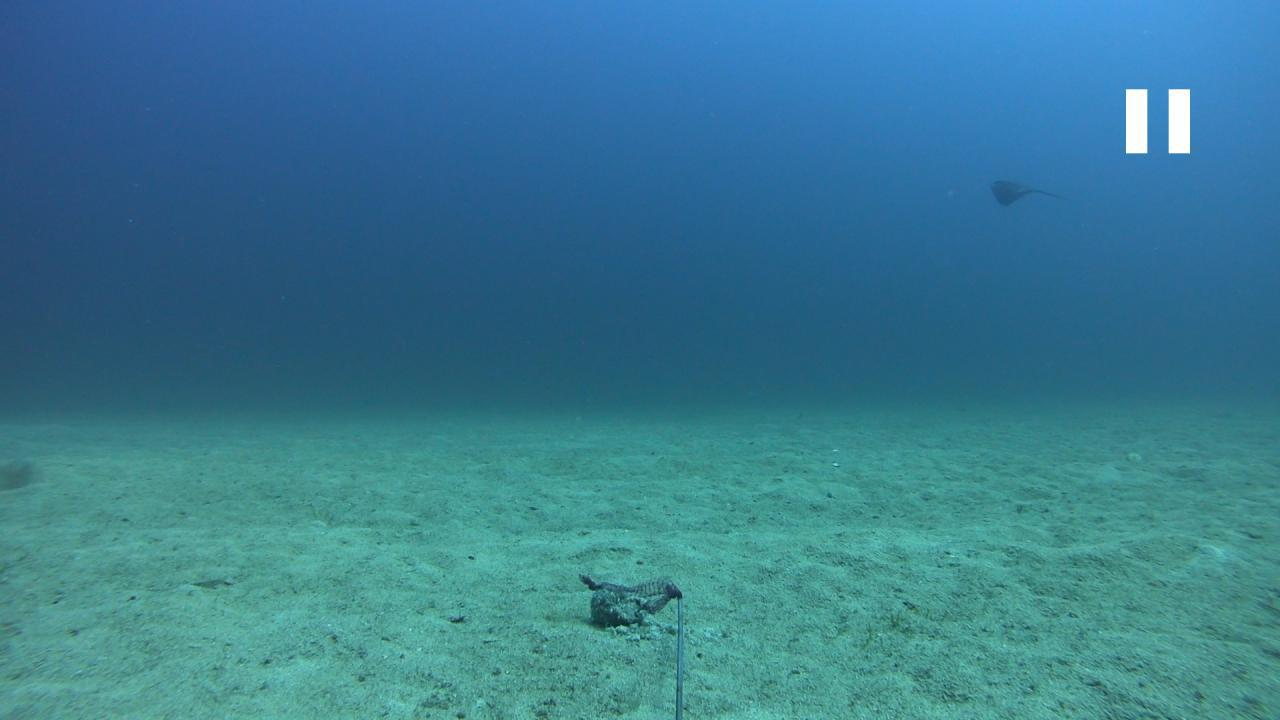dasyatis: (986, 176, 1064, 207)
